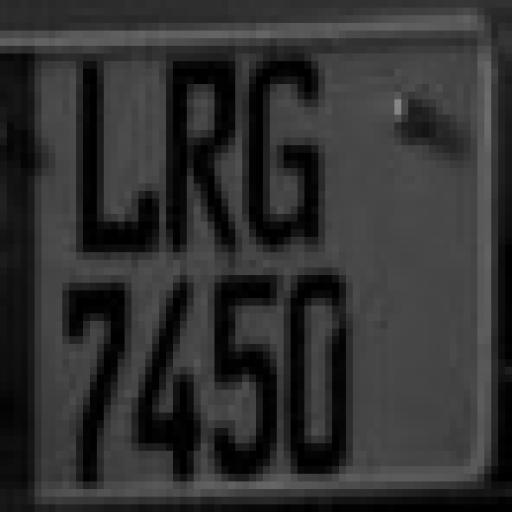0: (285, 275, 363, 466)
4: (137, 278, 198, 486)
5: (202, 267, 284, 482)
7: (55, 275, 129, 490)
G: (250, 56, 340, 252)
L: (72, 54, 160, 257)
R: (162, 52, 244, 252)
